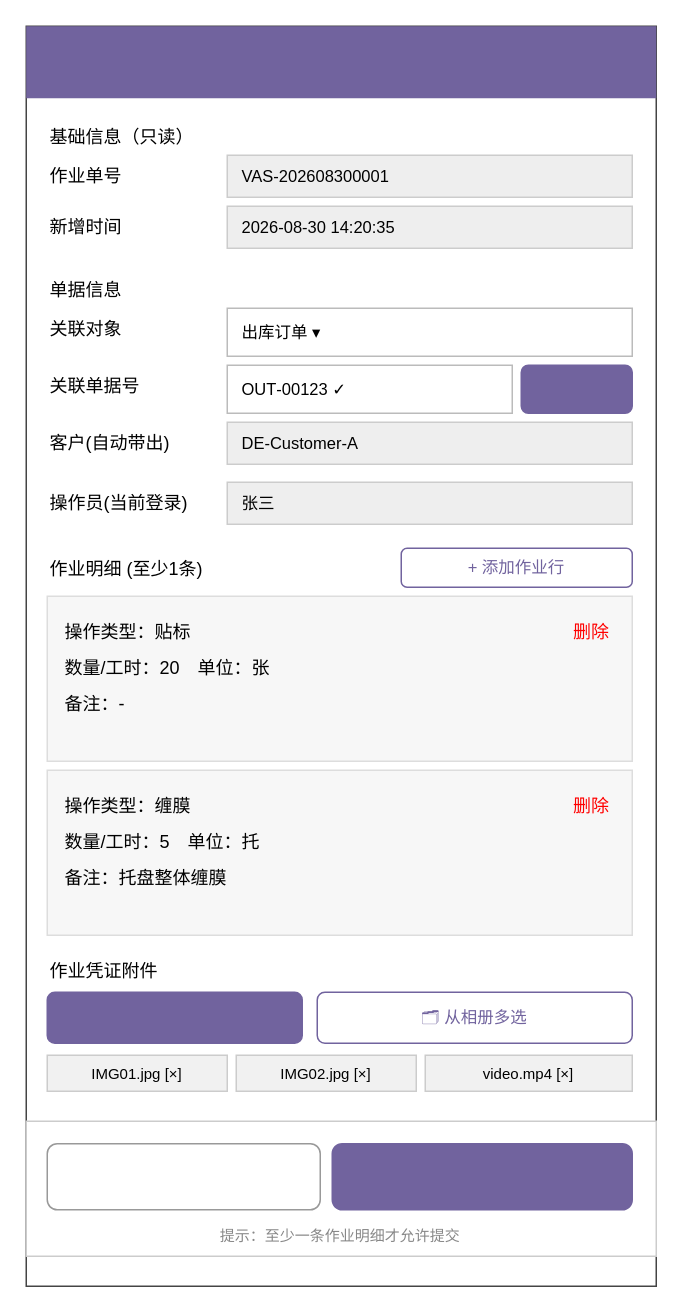
This 683x1313 diagram has some shape labels left out. Each missing label, with the centre of its shape:
"← 库内增值作业单" belongs at (x=341, y=62).
"保存草稿" belongs at (x=183, y=1176).
"扫码" belongs at (x=576, y=388).
"提交" belongs at (x=481, y=1176).
"📷 拍照" belongs at (x=174, y=1017).
